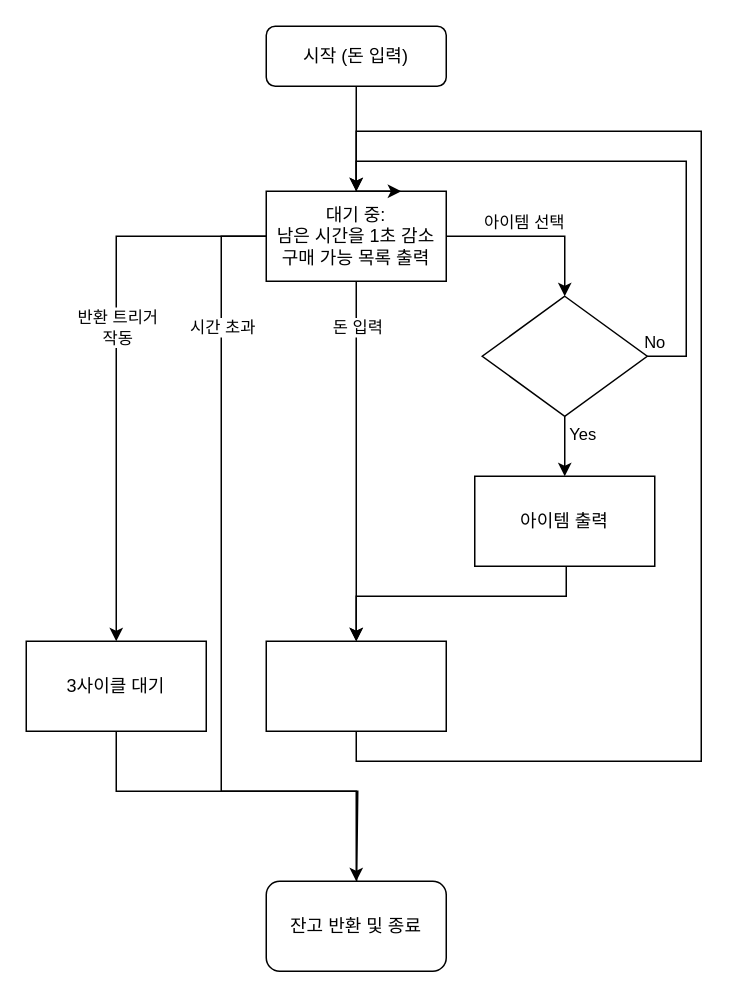
This 740x998 diagram has some shape labels left out. Here are the shapes that lost their labels. From the top down, the centre of each, then its label:
At point (564, 355): "구매 가능한가?".
At point (355, 685): "잔고 업데이트 남은 시간 초기화".
